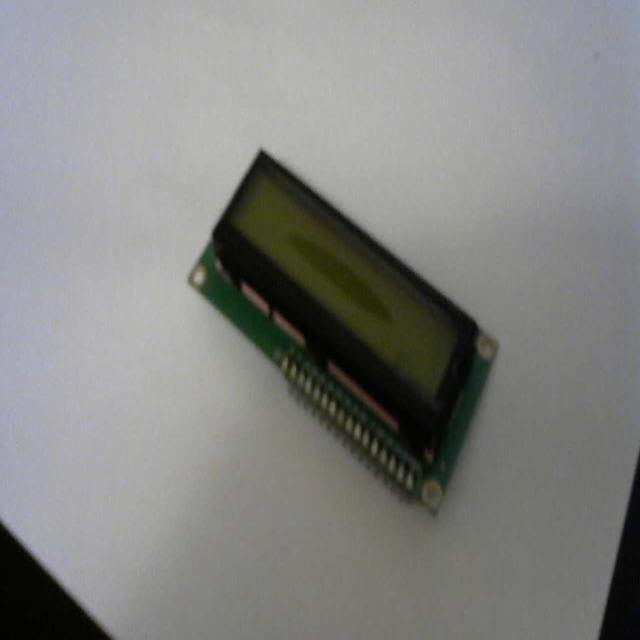lcd: (186, 124, 506, 530)
